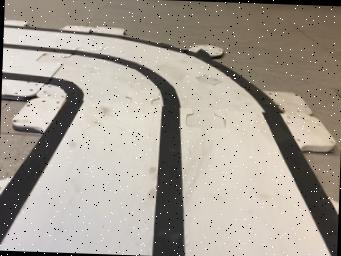street: (0, 22, 338, 256), (0, 22, 338, 256), (0, 22, 338, 256)
